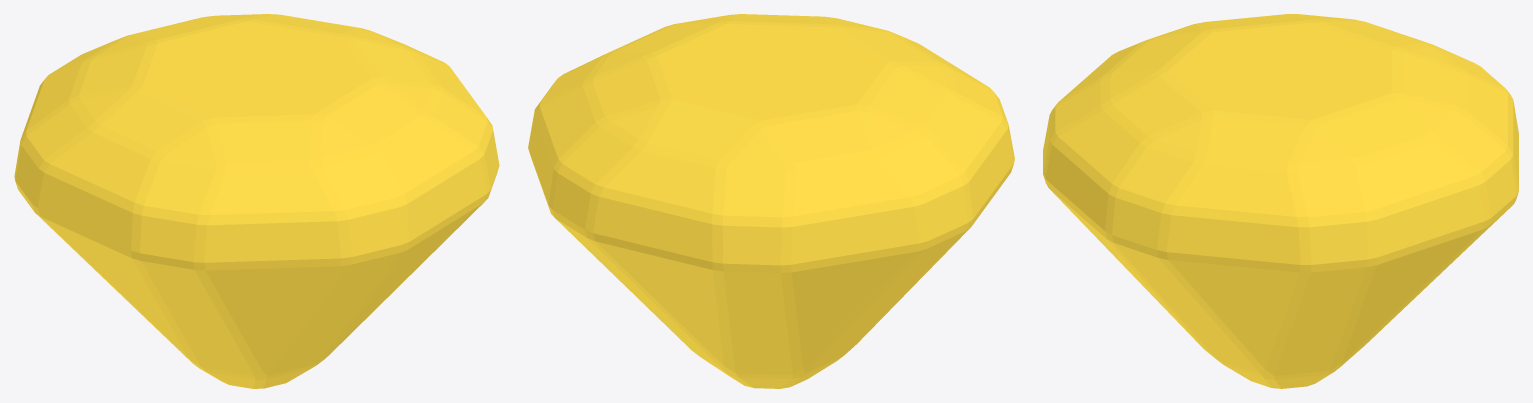
File: token4.glb
The picture shows the model from 3 angles, left to right: view 1: azimuth 30°, elevation 25°; view 2: azimuth 150°, elevation 25°; view 3: azimuth 270°, elevation 25°; orthographic projection.
Parts seen in each view (by area): view 1: Cone; view 2: Cone; view 3: Cone.
Boxes of the visible parts, x1,y1,x2,y2 form: Cone: [14, 14, 499, 388]; Cone: [528, 14, 1014, 388]; Cone: [1043, 14, 1518, 388].
Size of the model in its own units: 1.71 by 1.18 by 1.67.
1 material, 1 textured.
